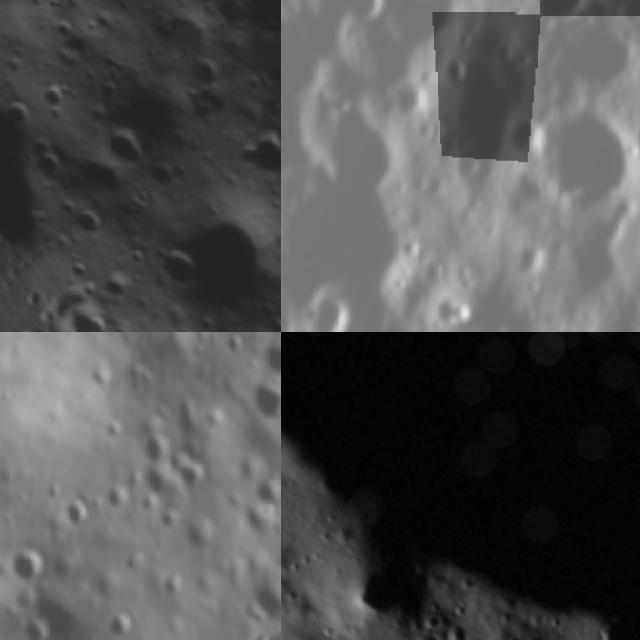crater: (281, 332, 640, 640), (281, 148, 446, 332), (506, 90, 640, 243), (142, 191, 281, 332), (298, 84, 434, 211), (527, 0, 640, 125), (56, 145, 136, 228), (0, 332, 36, 506), (86, 113, 163, 191), (501, 225, 575, 304), (153, 0, 227, 71), (290, 272, 377, 332), (224, 116, 281, 205), (23, 67, 83, 131), (170, 44, 230, 104), (229, 565, 281, 630), (528, 0, 614, 38), (504, 112, 556, 166), (6, 539, 55, 595), (237, 372, 281, 434), (339, 0, 405, 41), (0, 89, 44, 143), (169, 454, 216, 503), (93, 262, 139, 311), (57, 494, 101, 536), (136, 432, 182, 472), (94, 601, 141, 640), (258, 99, 281, 176), (436, 50, 479, 91), (577, 0, 640, 23), (180, 521, 218, 559), (154, 572, 191, 606), (281, 298, 312, 332)
